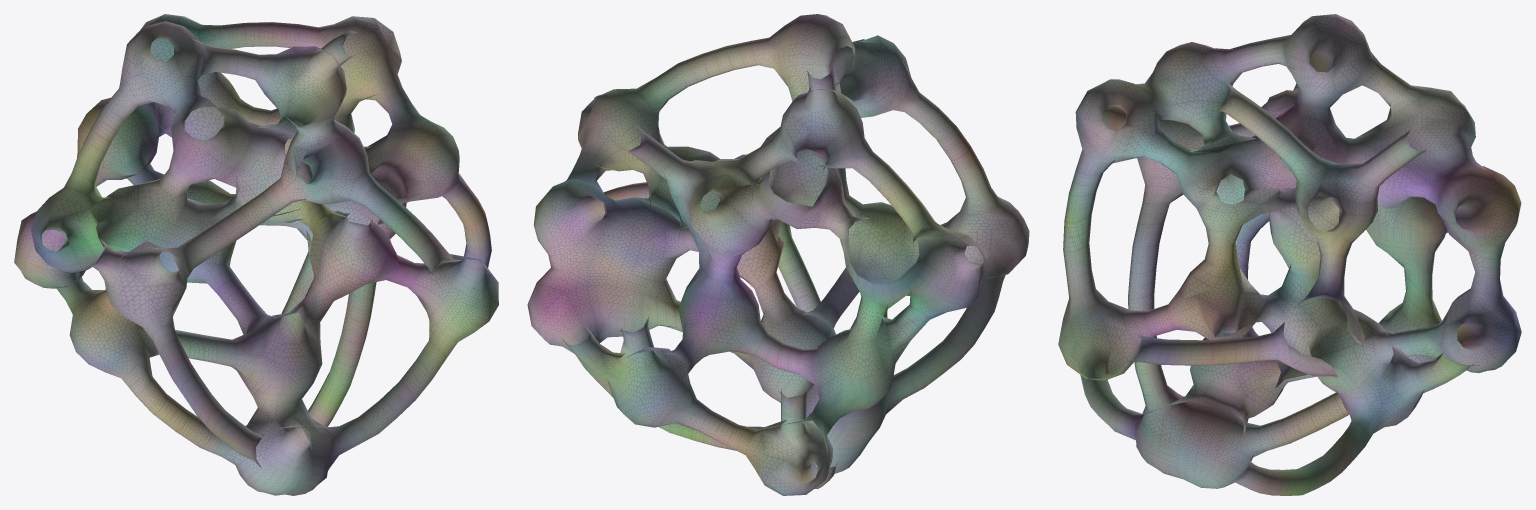
The model's file is nest.glb.
3 views of the same model, side by side, from view 1: azimuth 30°, elevation 25°; view 2: azimuth 150°, elevation 25°; view 3: azimuth 270°, elevation 25° (orthographic).
Parts seen in each view (by area): view 1: file1; view 2: file1; view 3: file1.
Boxes of the visible parts, bbox=[...] form: file1: bbox=[14, 14, 498, 495]; file1: bbox=[527, 14, 1029, 495]; file1: bbox=[1058, 14, 1521, 495].
Size of the model in its own units: 85.9 by 84.71 by 79.16.
1 material, 1 textured.
